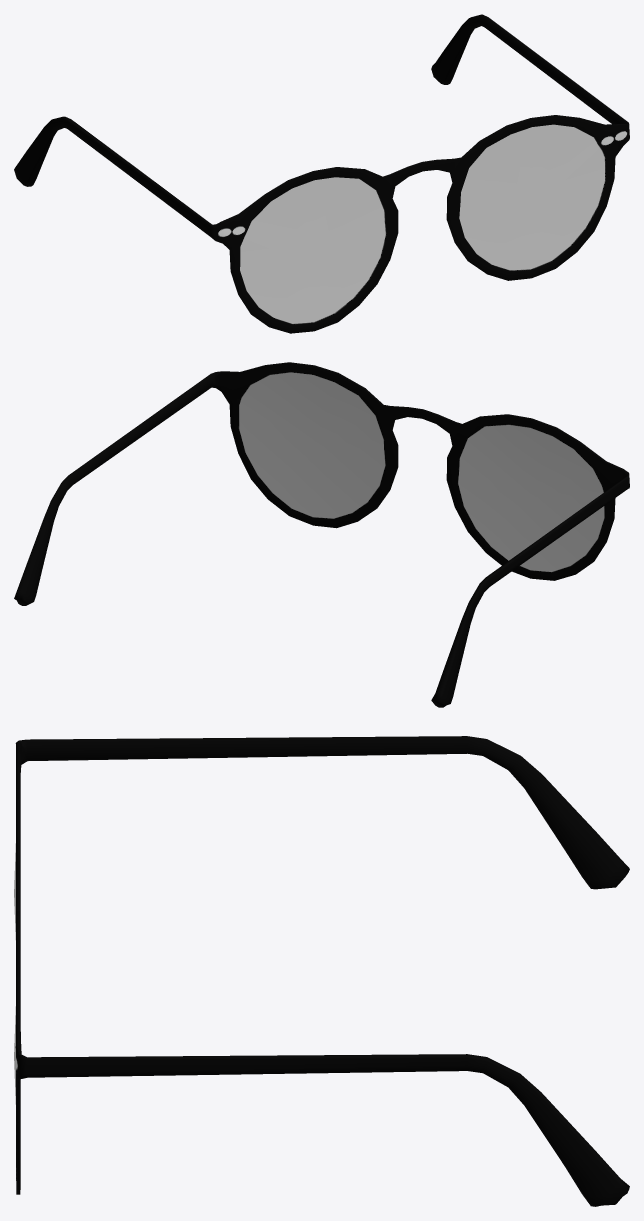
The model's file is glasses.fbx.
3 renders of one model, top to bottom at view 1: azimuth 30°, elevation 25°; view 2: azimuth 150°, elevation 25°; view 3: azimuth 270°, elevation 25°, orthographic. The views are drawn at different scales.
Parts seen in each view (by area): view 1: pCube7; view 2: pCube7; view 3: pCube7.
Boxes of the visible parts, x1,y1,x2,y2 form: pCube7: (14, 14, 629, 333); pCube7: (14, 362, 629, 707); pCube7: (14, 736, 629, 1206).
Size of the model in its own units: 14.1 by 5.01 by 11.22.
Materials: 2 (1 with a texture image).
